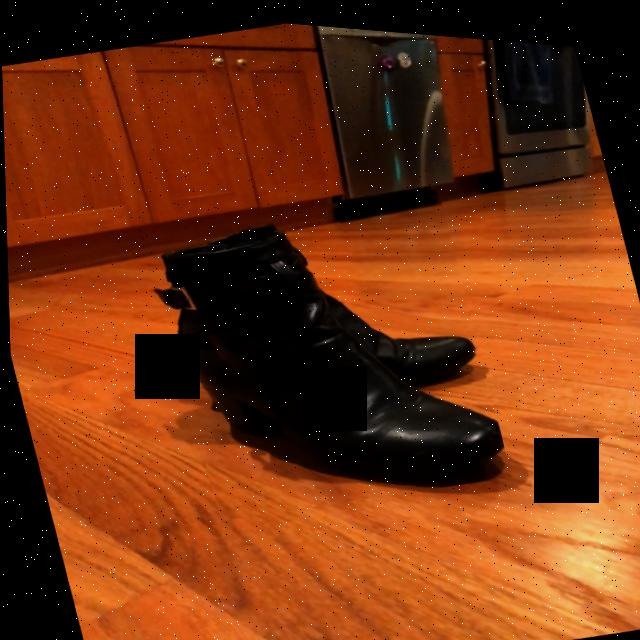shoe: (154, 220, 503, 480), (326, 295, 471, 378)
